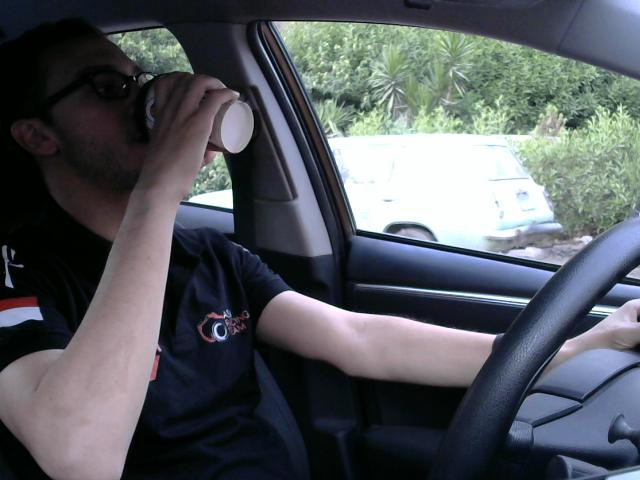Drinking: (138, 66, 259, 159)
